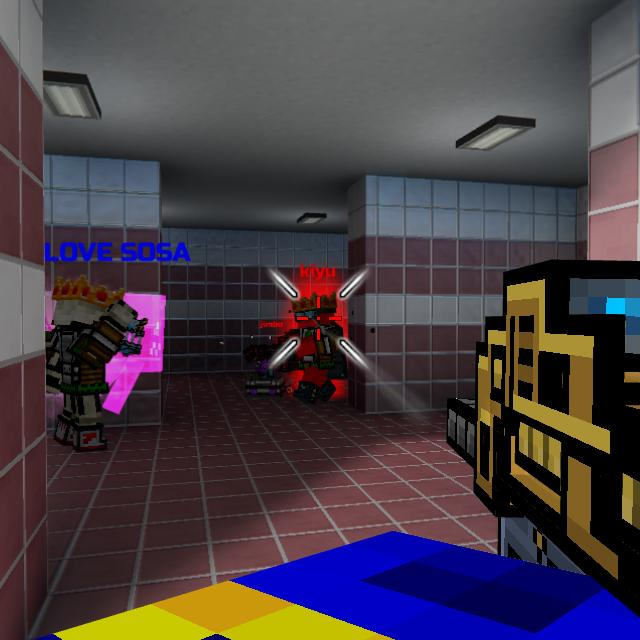Enemy: (284, 297, 344, 403)
